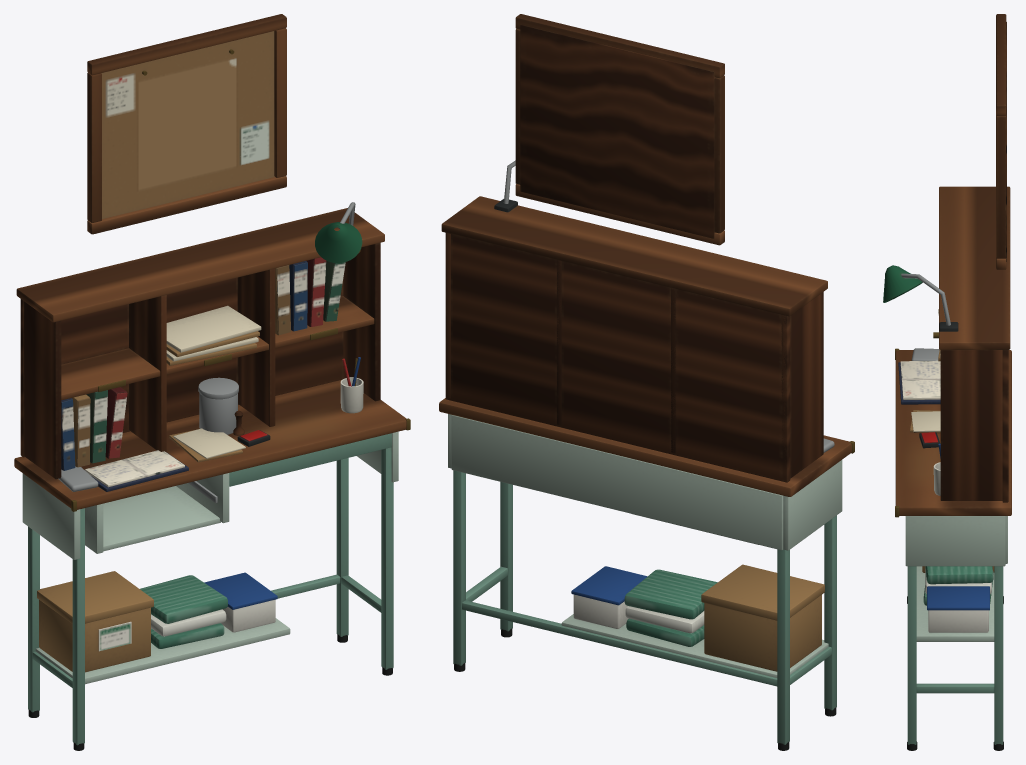
The model's file is CTCC_PROP_NursingFilingDesk.fbx.
3 renders of one model, left to right at view 1: azimuth 30°, elevation 25°; view 2: azimuth 150°, elevation 25°; view 3: azimuth 270°, elevation 25°, orthographic. The views are drawn at different scales.
Visible parts, largest first — view 1: DeskBody; view 2: DeskBody; view 3: DeskBody.
Part boxes in pixels (<box>): DeskBody: <box>14,14,410,750</box>; DeskBody: <box>439,14,854,750</box>; DeskBody: <box>883,14,1011,750</box>.
Bounding box in the file's own units: 1.24 × 2.24 × 0.4251.
